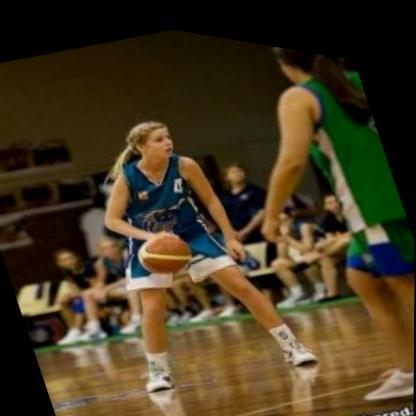basketball: (127, 209, 200, 282)
